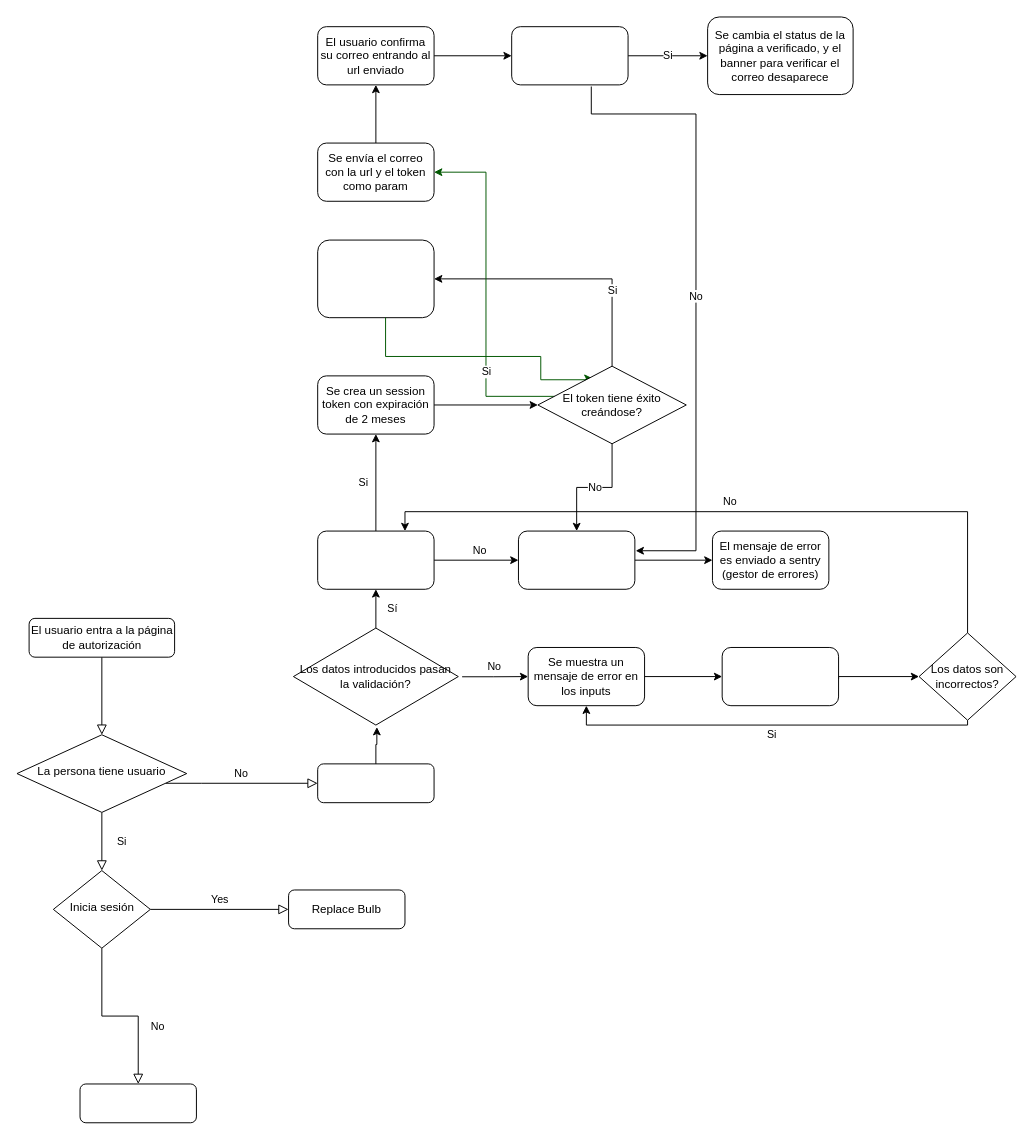
This 1033x1140 diagram has some shape labels left out. Each missing label, with the box of its shape:
El registro tiene éxito?: (317, 530, 434, 589)
El token de la URL es correcto y se ha validado?: (511, 26, 628, 85)
La persona reintenta el proceso: (721, 647, 839, 706)
Repair Lamp: (79, 1083, 196, 1123)
Se crea un token para la confirmación del correo usando el token de usuario: (317, 239, 434, 318)
Se muestra un mensaje de error general: (517, 530, 635, 589)
Se registra: (317, 763, 434, 803)
